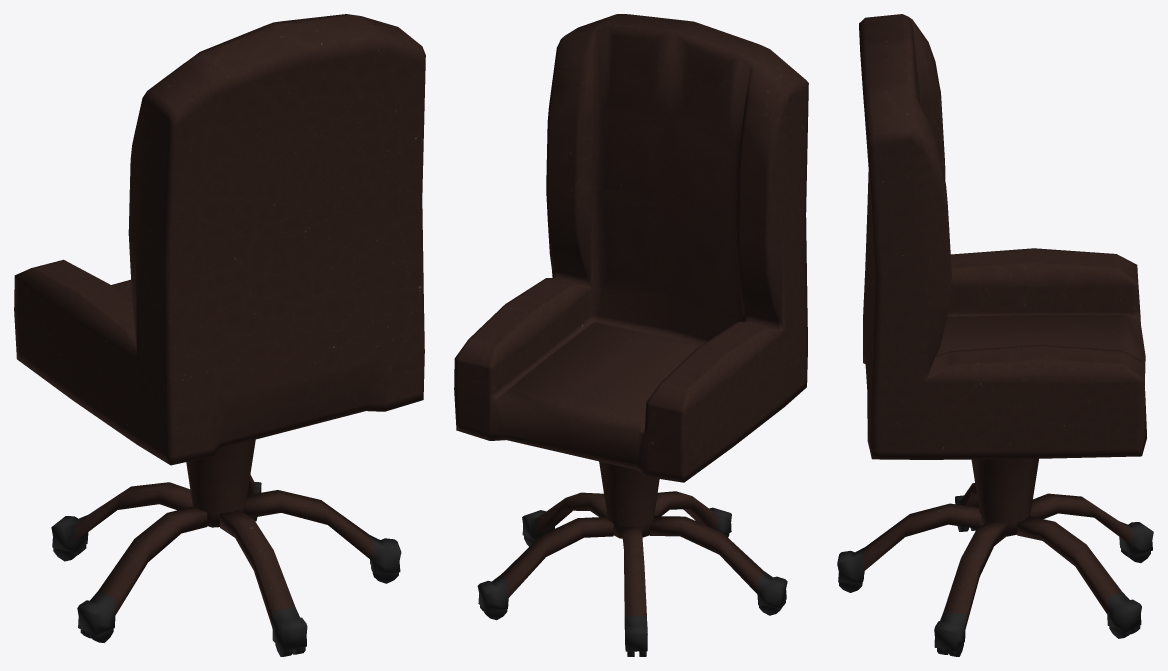
Rendered from boss_chair.glb.
3 renders of one model, left to right at view 1: azimuth 30°, elevation 25°; view 2: azimuth 150°, elevation 25°; view 3: azimuth 270°, elevation 25°, orthographic. The views are drawn at different scales.
Parts seen in each view (by area): view 1: BossChair; view 2: BossChair; view 3: BossChair.
Part boxes in pixels (<box>): BossChair: <box>14,14,425,656</box>; BossChair: <box>454,14,808,656</box>; BossChair: <box>837,14,1153,656</box>.
Size of the model in its own units: 0.8149 by 1.53 by 0.7899.
Materials: 3 (2 with a texture image).
